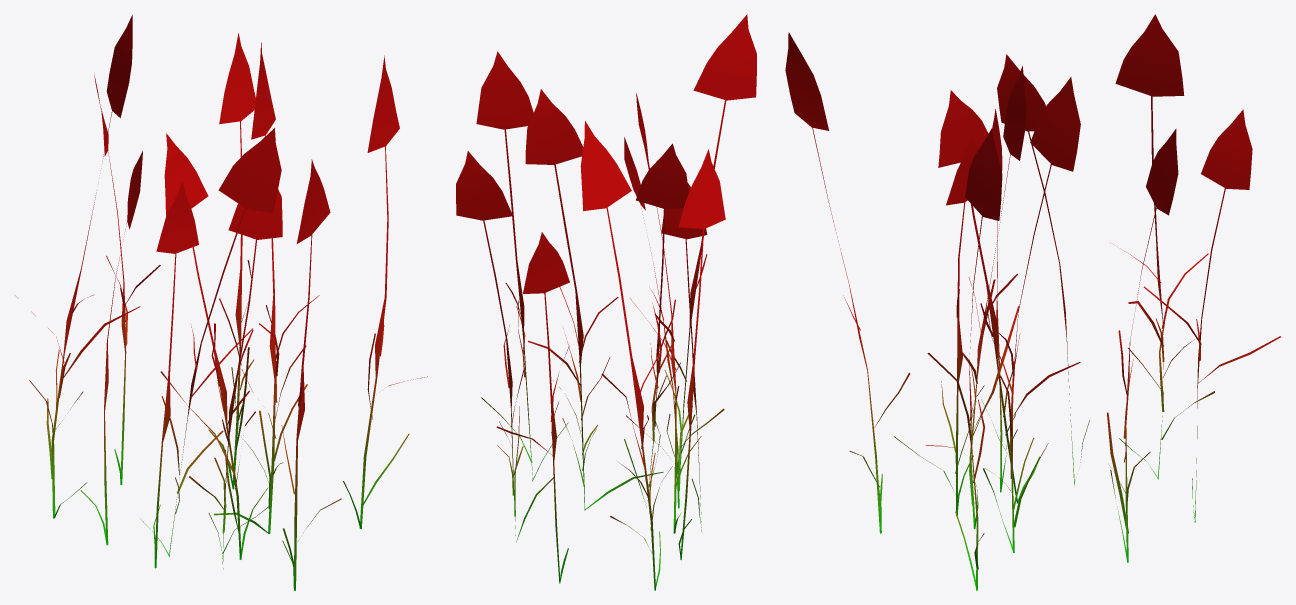
Rendered from Tundra Grass_LOD6_Var8_wk2oaeyqx.fbx.
The picture shows the model from 3 angles, left to right: view 1: azimuth 30°, elevation 25°; view 2: azimuth 150°, elevation 25°; view 3: azimuth 270°, elevation 25°; orthographic projection. The views are drawn at different scales.
Visible parts, largest first — view 1: _qz85_Var8_LOD6; view 2: _qz85_Var8_LOD6; view 3: _qz85_Var8_LOD6.
Boxes of the visible parts, x1,y1,x2,y2 form: _qz85_Var8_LOD6: [15, 15, 427, 590]; _qz85_Var8_LOD6: [456, 14, 756, 590]; _qz85_Var8_LOD6: [785, 14, 1280, 590].
Size of the model in its own units: 45.11 by 71.52 by 63.72.
